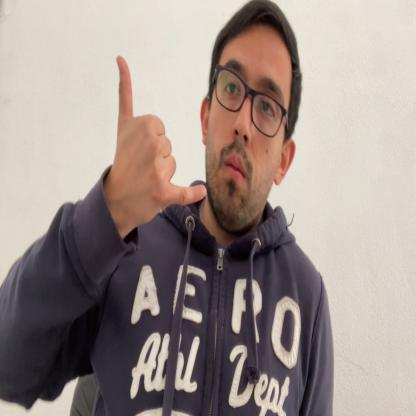Y: (112, 56, 207, 225)
